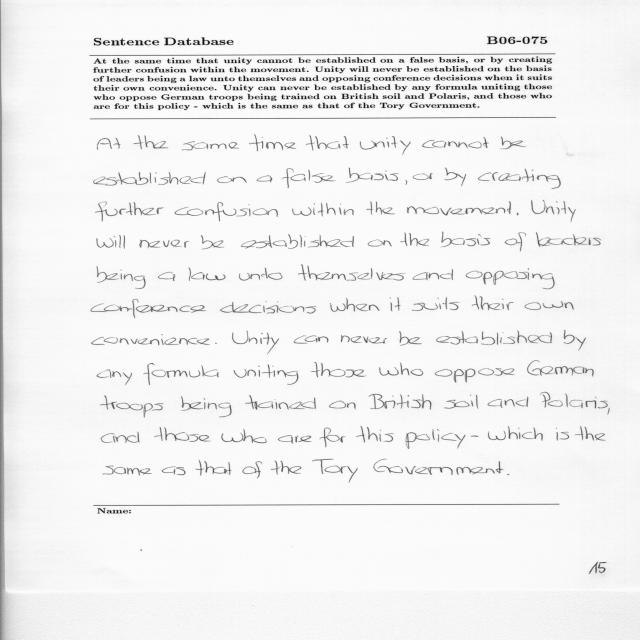word: (91, 299, 206, 318), (373, 459, 504, 475), (174, 203, 278, 222), (466, 268, 555, 289), (298, 265, 404, 281), (241, 234, 354, 249), (143, 363, 219, 385), (478, 169, 561, 189), (436, 331, 552, 345), (94, 172, 206, 185), (407, 202, 511, 216), (92, 334, 210, 346), (234, 364, 299, 385), (101, 396, 163, 418), (96, 202, 164, 222), (220, 301, 316, 314), (435, 368, 515, 383), (406, 429, 466, 449), (97, 266, 146, 289), (312, 459, 358, 483), (540, 393, 608, 409), (232, 331, 279, 354), (282, 168, 336, 188), (527, 361, 594, 377), (181, 396, 232, 417), (246, 395, 316, 410), (369, 394, 431, 410), (531, 200, 576, 222), (536, 232, 601, 247), (360, 136, 411, 155), (311, 362, 367, 378), (154, 427, 211, 442), (488, 426, 543, 441), (292, 203, 354, 216), (440, 232, 490, 248), (250, 134, 297, 151), (346, 168, 399, 183), (422, 137, 489, 148), (306, 135, 349, 151), (330, 298, 379, 312), (412, 297, 460, 311), (221, 429, 267, 443), (356, 426, 393, 442), (195, 460, 232, 476), (472, 296, 513, 310), (379, 363, 423, 376), (182, 141, 239, 151), (97, 369, 132, 385), (239, 268, 282, 281), (189, 267, 226, 281), (320, 428, 346, 447), (133, 135, 168, 149), (103, 466, 152, 476), (444, 395, 478, 409), (575, 426, 606, 441), (564, 330, 586, 351), (139, 240, 190, 249), (413, 269, 454, 280), (488, 397, 529, 408), (271, 460, 301, 475), (525, 301, 574, 310), (400, 232, 429, 247), (101, 432, 140, 443), (341, 335, 387, 344), (367, 201, 396, 215), (505, 233, 526, 252), (445, 168, 467, 186), (97, 235, 125, 249), (499, 137, 526, 150), (399, 331, 422, 346), (243, 462, 263, 479), (201, 236, 224, 250), (294, 335, 329, 344), (278, 435, 312, 444), (98, 138, 121, 150), (329, 401, 356, 409), (217, 176, 247, 183), (162, 467, 186, 475), (556, 428, 569, 441), (368, 240, 392, 247), (390, 298, 401, 312), (158, 272, 175, 281), (413, 173, 433, 180), (257, 176, 272, 183), (607, 408, 610, 415), (471, 435, 478, 437), (406, 180, 408, 185), (517, 213, 519, 215), (215, 343, 217, 344), (507, 474, 509, 475)
